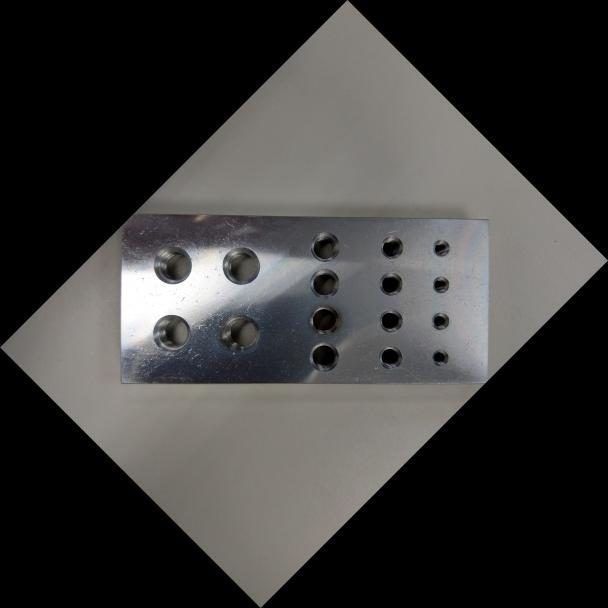hole: (143, 236, 200, 293), (213, 237, 269, 294), (213, 305, 268, 360), (143, 305, 198, 360), (302, 224, 346, 268), (302, 298, 346, 342), (302, 262, 346, 305), (302, 335, 345, 378), (373, 303, 408, 338), (375, 230, 409, 264), (374, 267, 408, 301), (373, 340, 407, 374), (428, 235, 454, 261), (427, 308, 453, 334), (428, 272, 453, 296), (428, 345, 452, 370)
